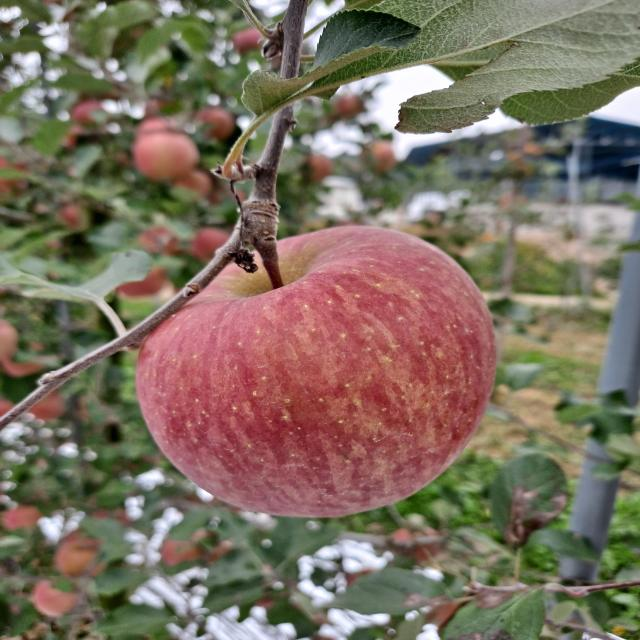fresh: (130, 219, 512, 526)
